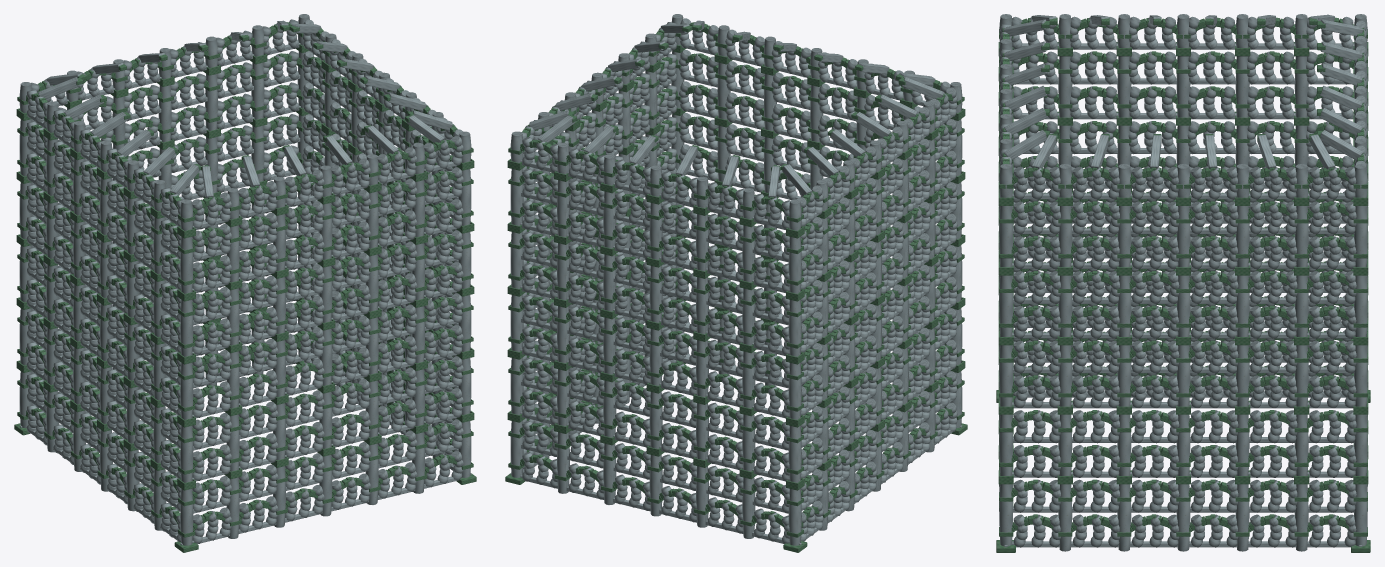
3 renders of one model, left to right at view 1: azimuth 30°, elevation 25°; view 2: azimuth 150°, elevation 25°; view 3: azimuth 270°, elevation 25°, orthographic. The views are drawn at different scales.
Visible parts, largest first — view 1: Tier 1 side 0 post 0, Tier 2 side 0 post 0, Tier 0 side 0 post 0, Tier 4 side 0 post 0, Tier 3 side 0 post 0, Tier 4 side 2 post 1, Tier 4 side 2 post 2, Tier 4 side 2 post 3; view 2: Tier 0 side 3 post 0, Tier 1 side 3 post 0, Tier 2 side 3 post 0, Tier 3 side 3 post 0, Tier 4 side 3 post 0, Tier 0 side 2 post 3, Tier 0 side 2 post 5, Tier 0 side 2 post 1, Tier 0 side 2 post 2, Tier 0 side 2 post 4, Tier 0 side 2 post 0, Tier 1 side 2 post 0 (+23 smaller); view 3: Tier 0 side 1 post 2, Tier 0 side 1 post 4, Tier 0 side 1 post 3, Tier 0 side 1 post 1, Tier 2 side 1 post 0, Tier 0 side 1 post 5, Tier 0 side 1 post 0, Tier 4 side 1 post 0, Tier 3 side 1 post 0, Tier 1 side 1 post 0, Tier 2 side 2 post 0, Tier 0 side 2 post 0 (+38 smaller).
Boxes of the visible parts, x1=… form: Tier 1 side 0 post 0: x1=180, y1=426, x2=193, y2=482; Tier 2 side 0 post 0: x1=180, y1=363, x2=193, y2=419; Tier 0 side 0 post 0: x1=180, y1=489, x2=193, y2=545; Tier 4 side 0 post 0: x1=180, y1=237, x2=193, y2=293; Tier 3 side 0 post 0: x1=180, y1=300, x2=193, y2=356; Tier 4 side 2 post 1: x1=251, y1=62, x2=264, y2=119; Tier 4 side 2 post 2: x1=205, y1=74, x2=217, y2=130; Tier 4 side 2 post 3: x1=158, y1=85, x2=171, y2=142; Tier 0 side 3 post 0: x1=788, y1=489, x2=801, y2=545; Tier 1 side 3 post 0: x1=788, y1=426, x2=801, y2=482; Tier 2 side 3 post 0: x1=788, y1=363, x2=801, y2=419; Tier 3 side 3 post 0: x1=788, y1=300, x2=801, y2=356; Tier 4 side 3 post 0: x1=788, y1=237, x2=801, y2=293; Tier 0 side 2 post 3: x1=649, y1=455, x2=662, y2=516; Tier 0 side 2 post 5: x1=742, y1=477, x2=755, y2=538; Tier 0 side 2 post 1: x1=557, y1=432, x2=569, y2=493; Tier 0 side 2 post 2: x1=603, y1=443, x2=616, y2=504; Tier 0 side 2 post 4: x1=696, y1=466, x2=708, y2=527; Tier 0 side 2 post 0: x1=510, y1=421, x2=523, y2=477; Tier 1 side 2 post 0: x1=510, y1=358, x2=523, y2=414; Tier 0 side 1 post 2: x1=1117, y1=484, x2=1131, y2=551; Tier 0 side 1 post 4: x1=1235, y1=484, x2=1249, y2=551; Tier 0 side 1 post 3: x1=1176, y1=484, x2=1190, y2=551; Tier 0 side 1 post 1: x1=1058, y1=484, x2=1072, y2=551; Tier 2 side 1 post 0: x1=999, y1=345, x2=1012, y2=406; Tier 0 side 1 post 5: x1=1294, y1=484, x2=1308, y2=551; Tier 0 side 1 post 0: x1=999, y1=484, x2=1012, y2=546; Tier 4 side 1 post 0: x1=999, y1=206, x2=1012, y2=267; Tier 3 side 1 post 0: x1=999, y1=275, x2=1012, y2=336; Tier 1 side 1 post 0: x1=999, y1=414, x2=1012, y2=475; Tier 2 side 2 post 0: x1=1354, y1=345, x2=1367, y2=406; Tier 0 side 2 post 0: x1=1354, y1=484, x2=1367, y2=546.
Bounding box in the file's own units: 2.85 × 3.34 × 2.85.
Materials: 2 (2 with a texture image).
